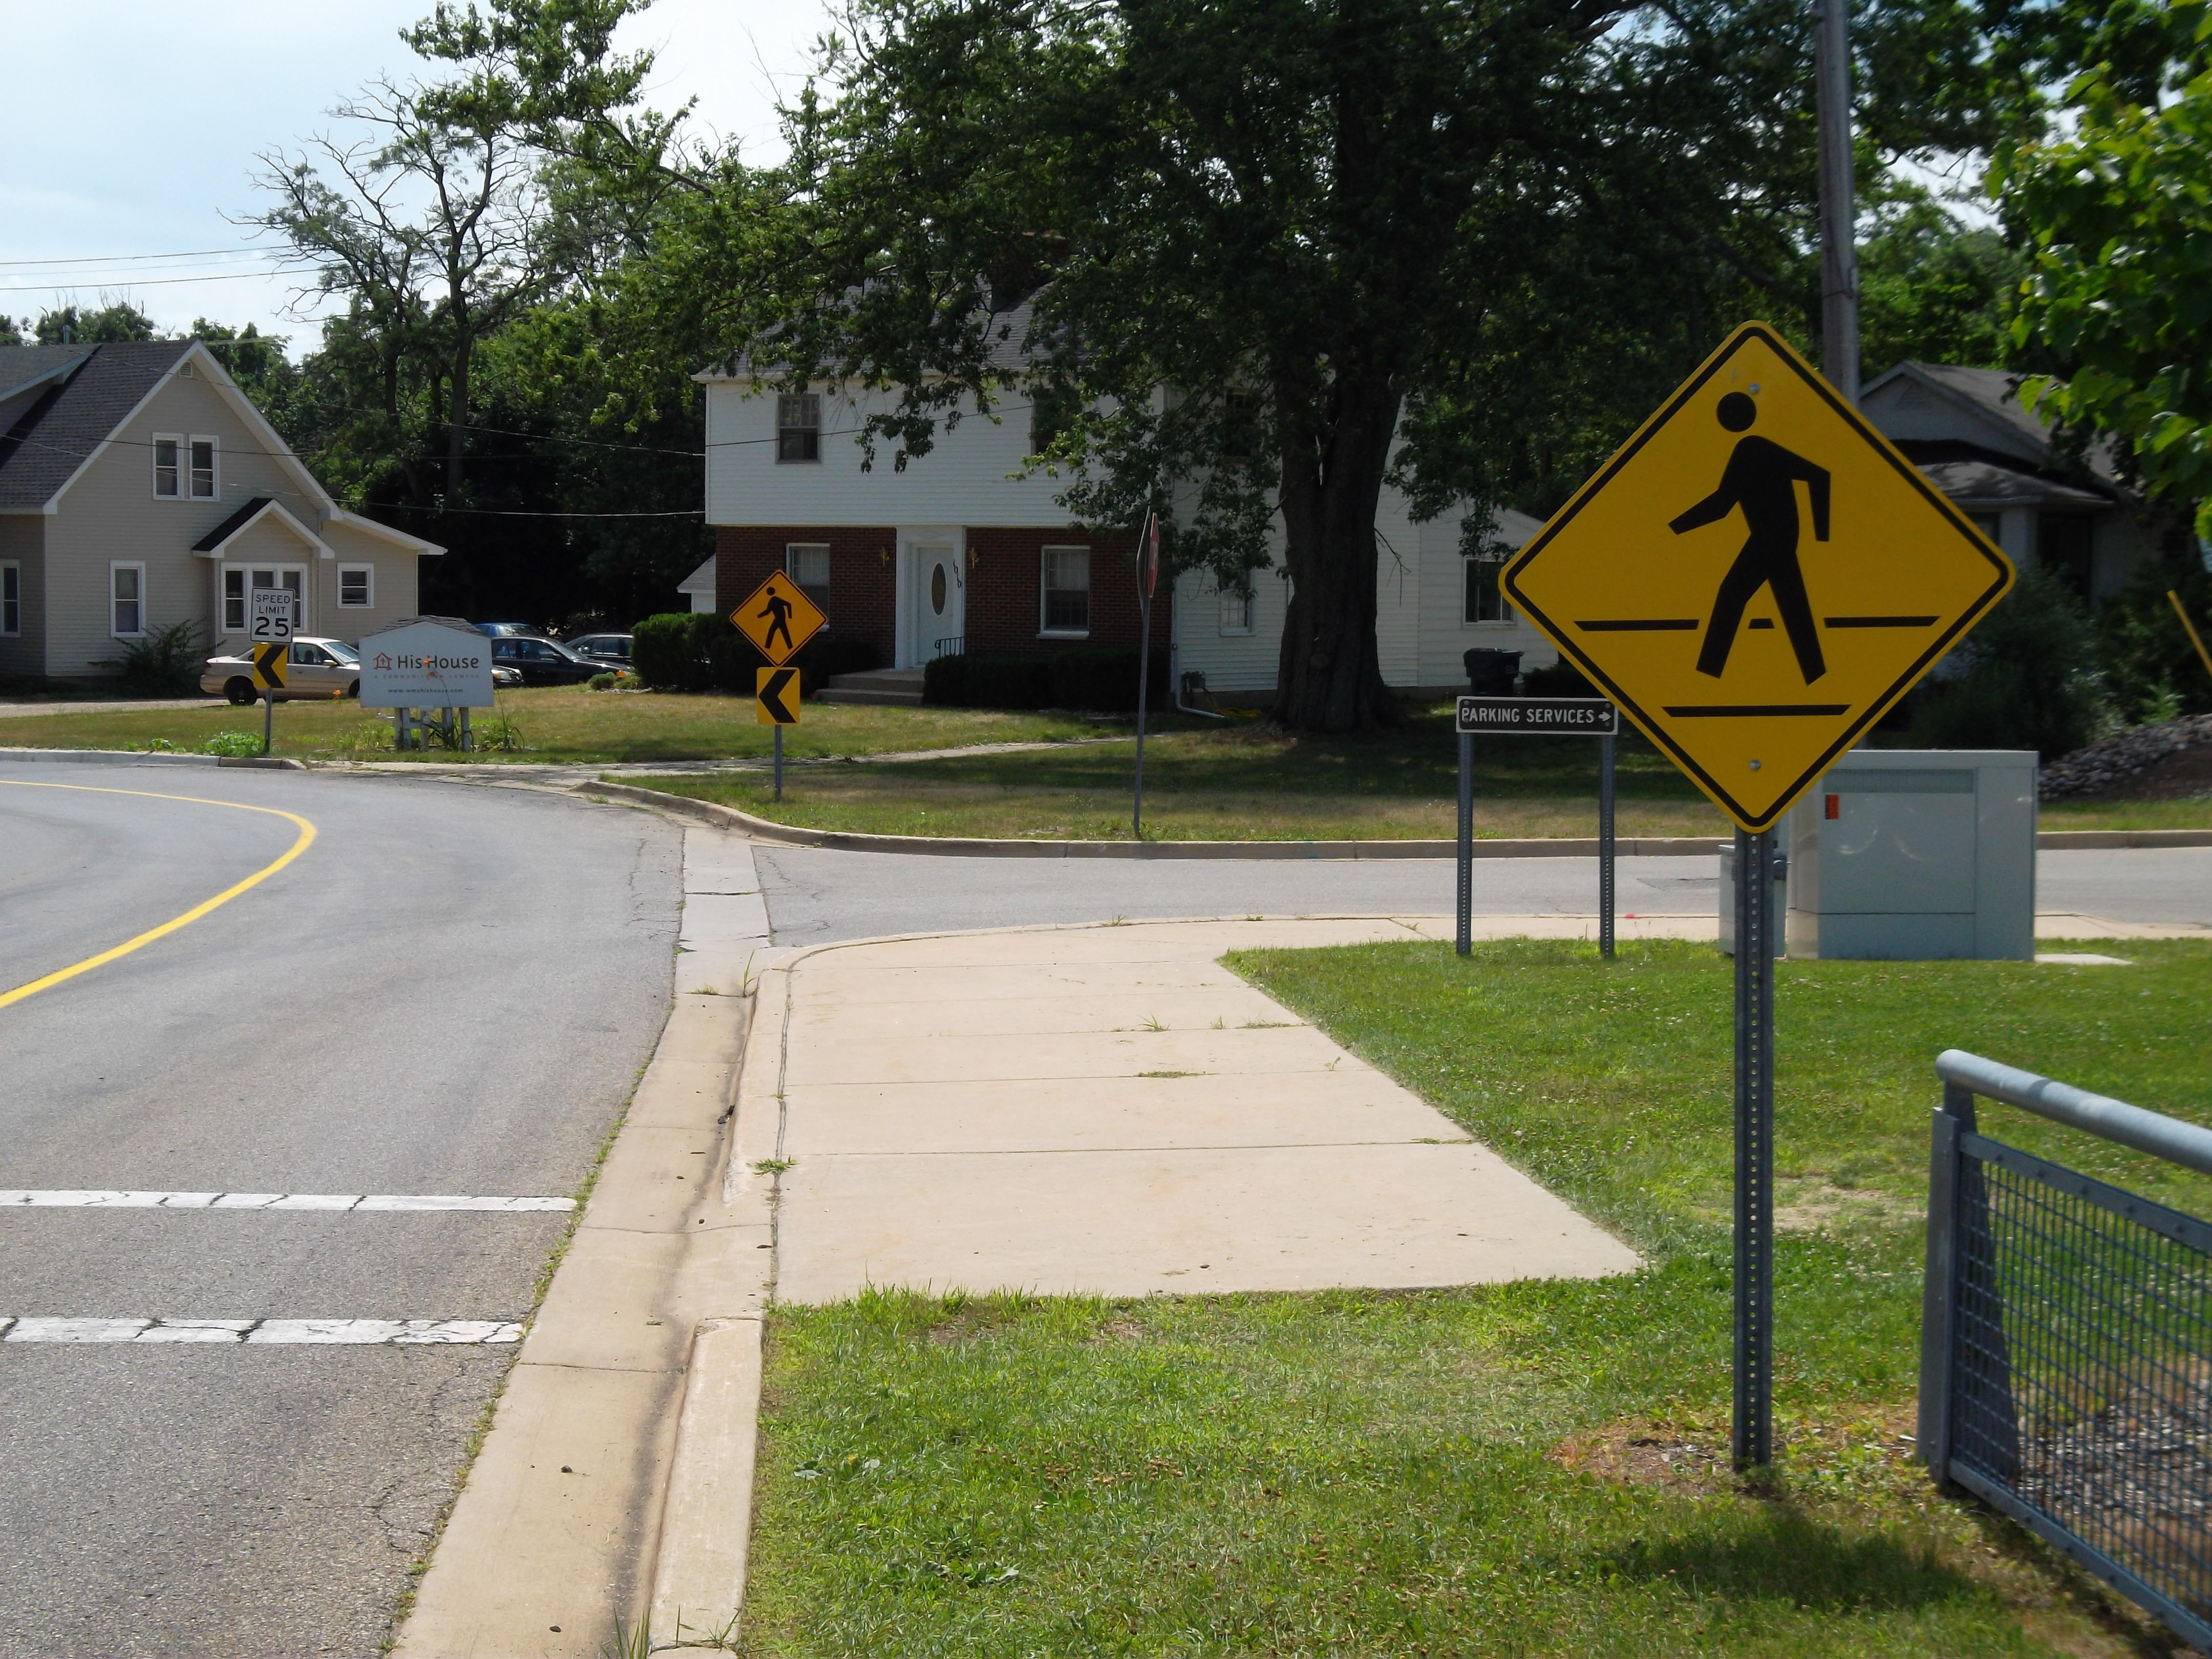regulatory: (253, 587, 294, 645)
warning: (1491, 319, 2019, 835), (732, 568, 826, 673), (740, 655, 805, 728), (240, 638, 293, 695)
